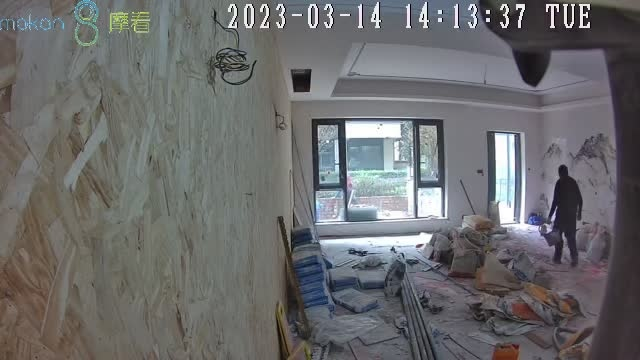people: (546, 165, 583, 267)
window: (314, 118, 446, 222)
